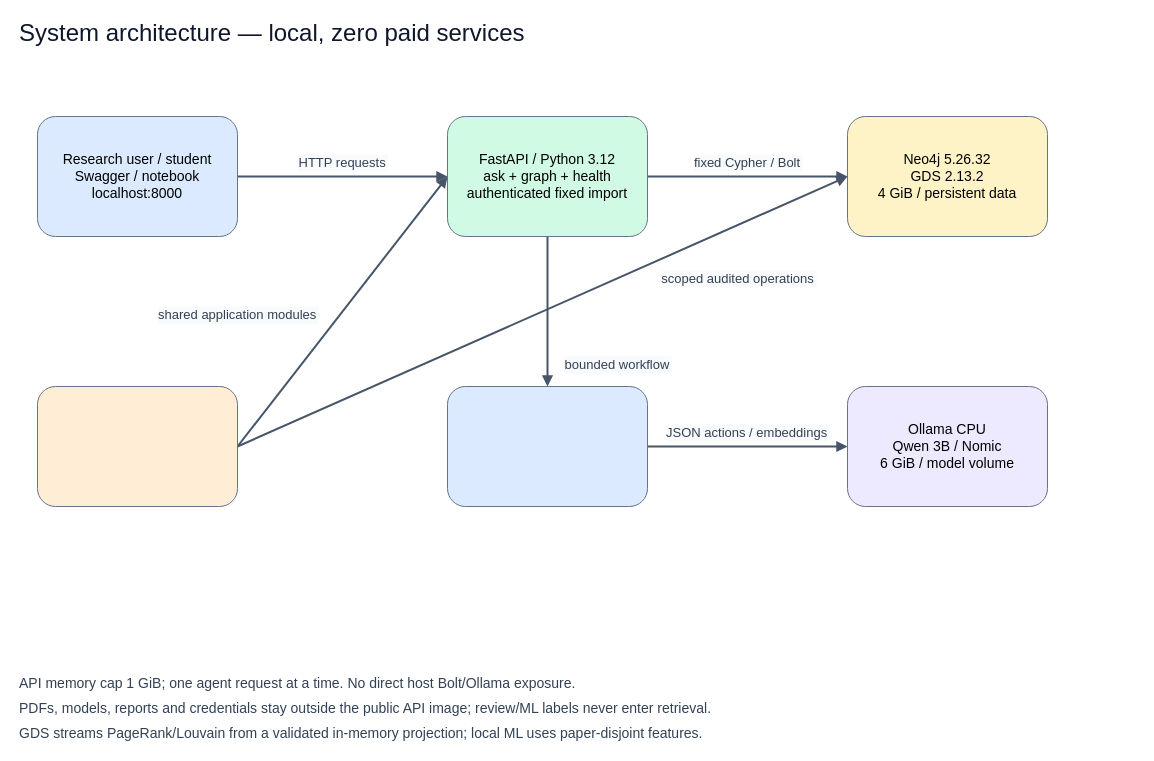
The diagram is 1154 pixels wide and 761 high, and some of its shapes have lost their labels. The shapes that lost their labels are listed below. From the top down, each one's centre as x and y in pixels, then its label:
At (x=137, y=446): "Operator CLI pinned PDFs → evidence mentions / ML / GDS refresh".
At (x=547, y=446): "LangGraph StateGraph typed selection + routing exact source validation".
